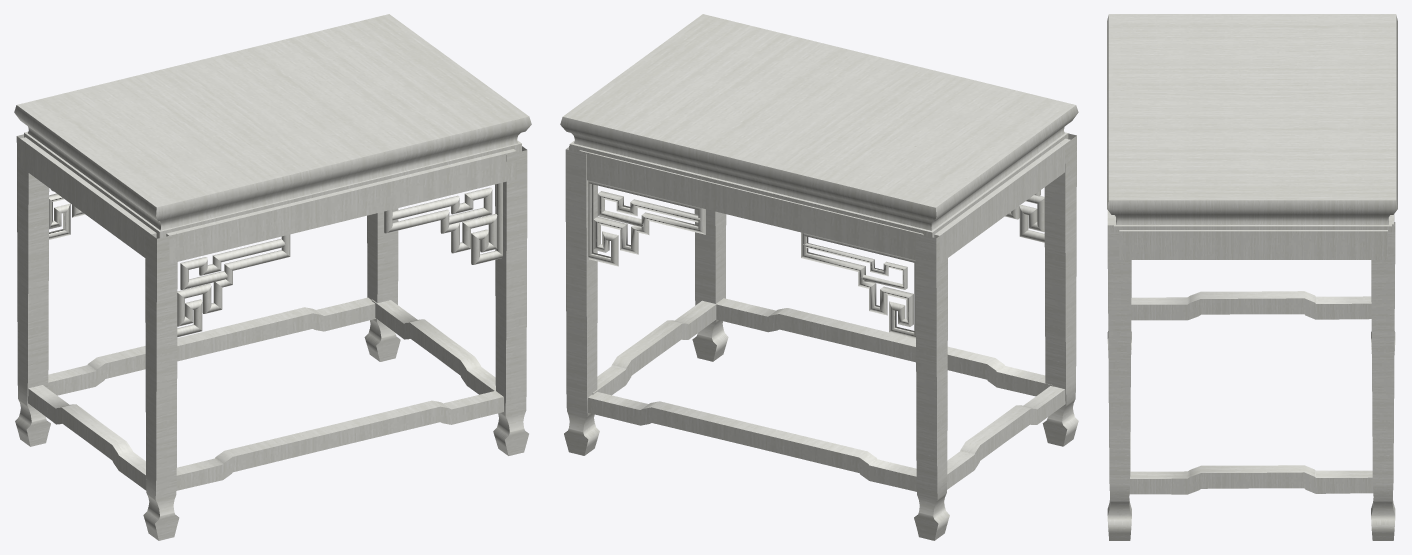
File: Small table.FBX
The picture shows the model from 3 angles, left to right: view 1: azimuth 30°, elevation 25°; view 2: azimuth 150°, elevation 25°; view 3: azimuth 270°, elevation 25°; orthographic projection. The views are drawn at different scales.
Visible parts, largest first — view 1: small table; view 2: small table; view 3: small table.
Part boxes in pixels (<box>): small table: <box>14,14,531,540</box>; small table: <box>560,14,1078,540</box>; small table: <box>1107,14,1397,540</box>.
Size of the model in its own units: 30.68 by 26.07 by 20.03.
